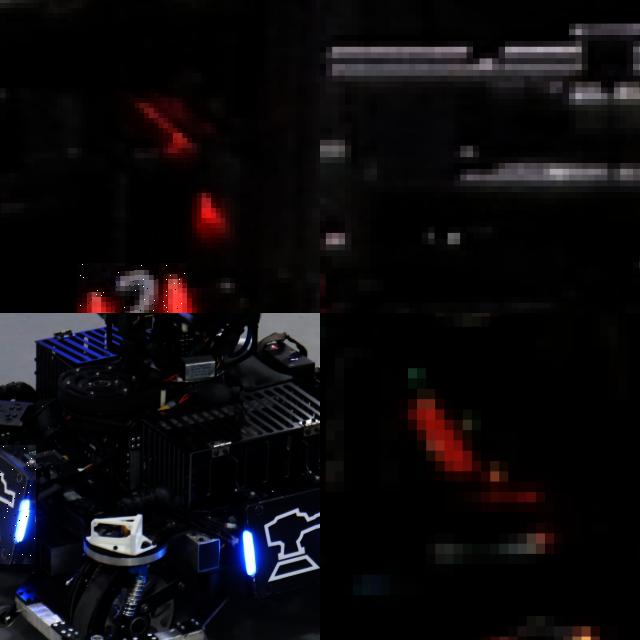Bs: (241, 487, 320, 596), (0, 444, 35, 564)
R2: (77, 263, 187, 313)
